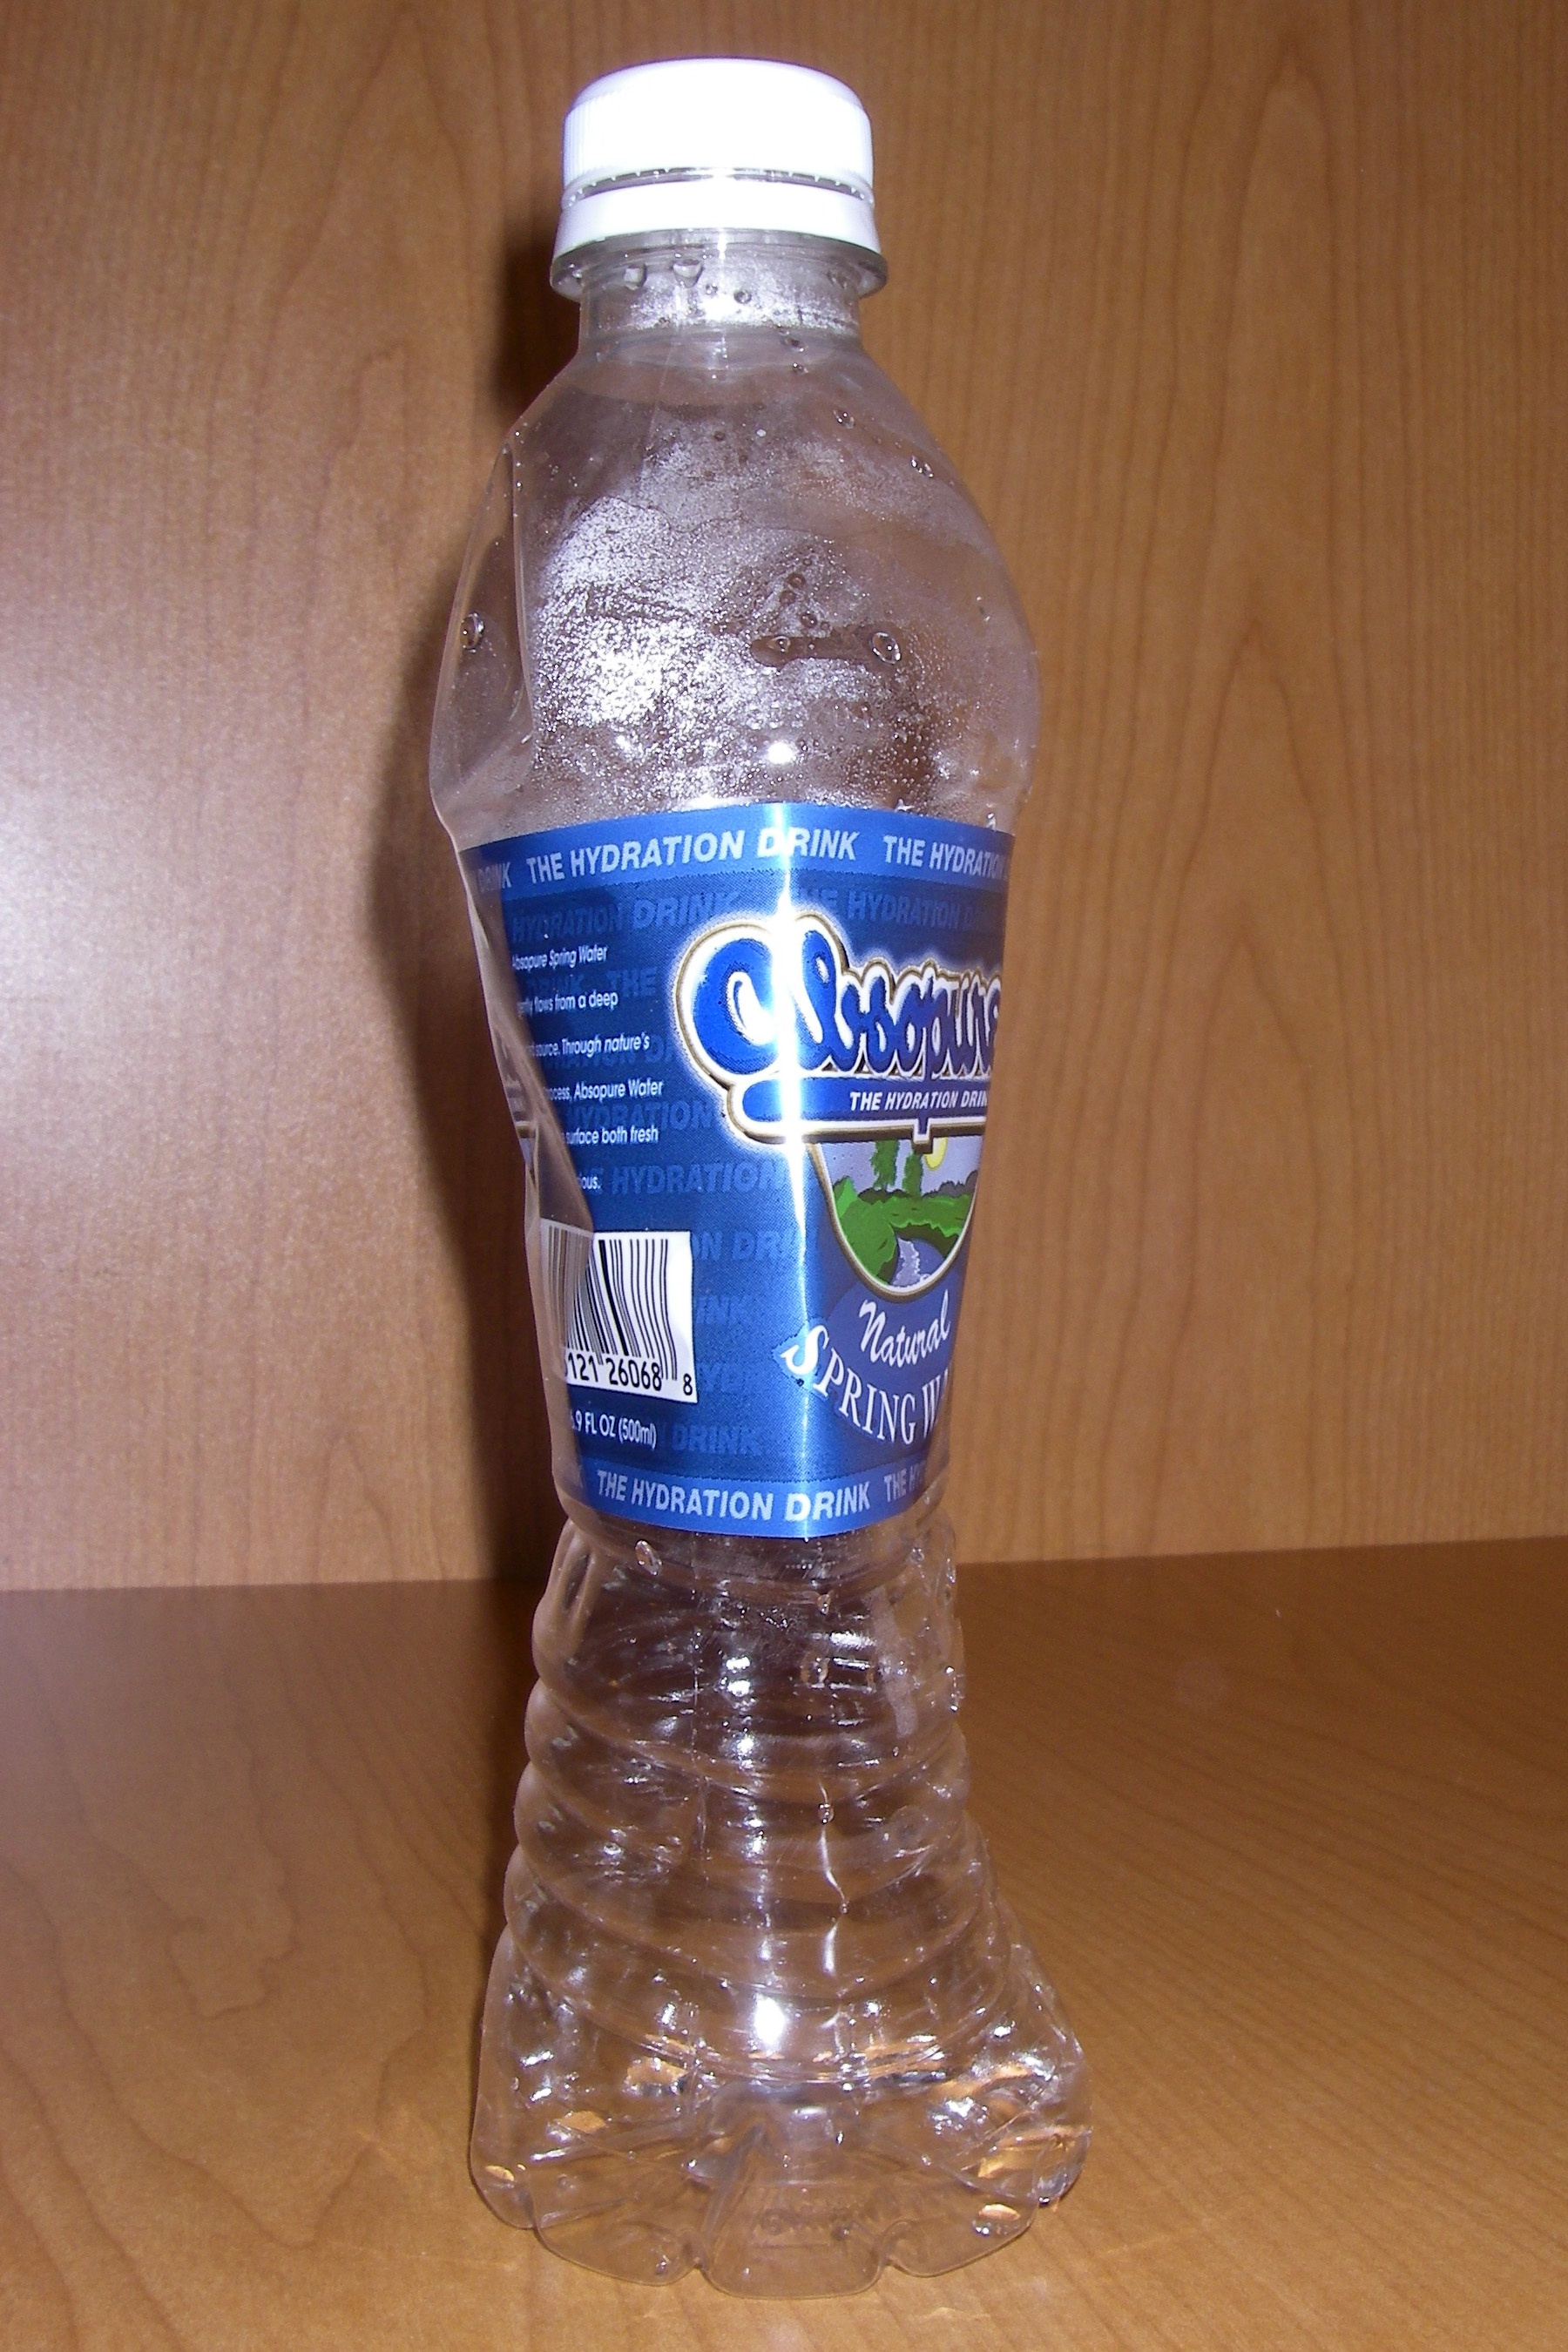emptybottle: (427, 59, 1090, 2282)
